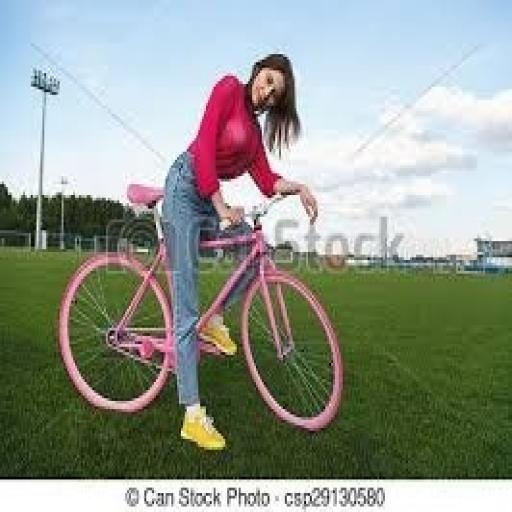cycling: (158, 49, 321, 455)
